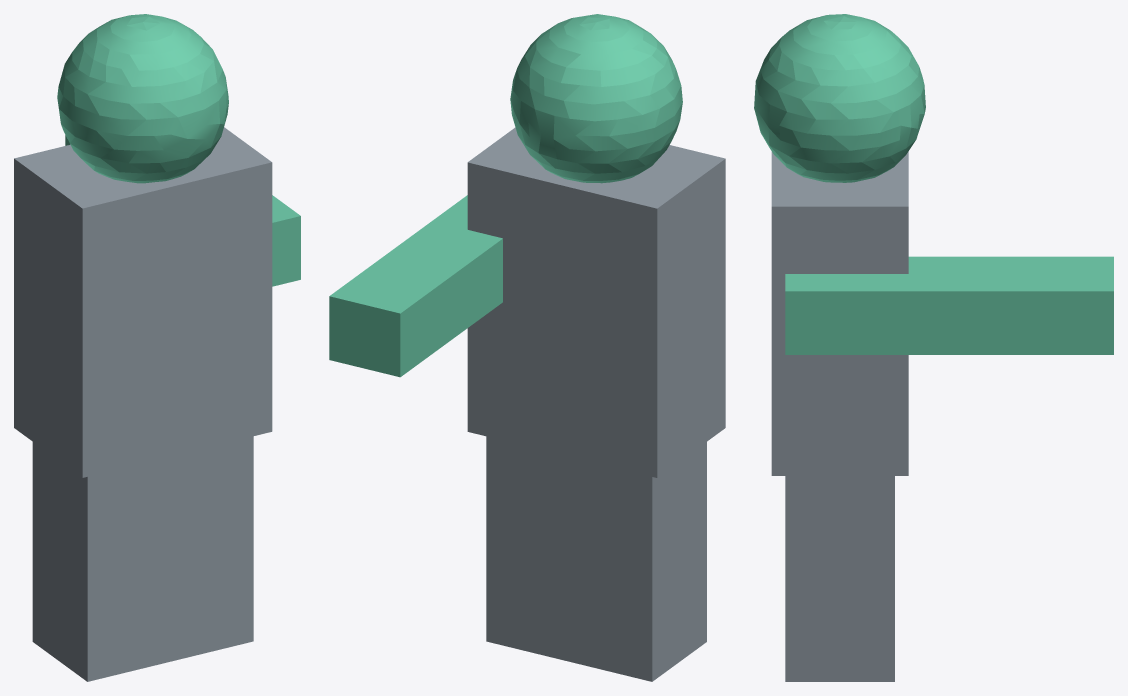
Rendered from CO_RakshaGuard_LOD1.glb.
The picture shows the model from 3 angles, left to right: view 1: azimuth 30°, elevation 25°; view 2: azimuth 150°, elevation 25°; view 3: azimuth 270°, elevation 25°; orthographic projection.
Visible parts, largest first — view 1: Head; view 2: Head; view 3: Head.
Boxes of the visible parts, x1,y1,x2,y2 form: Head: [14, 14, 300, 681]; Head: [329, 14, 725, 681]; Head: [754, 14, 1113, 681].
Bounding box in the file's own units: 66.5 × 175 × 91.99.
